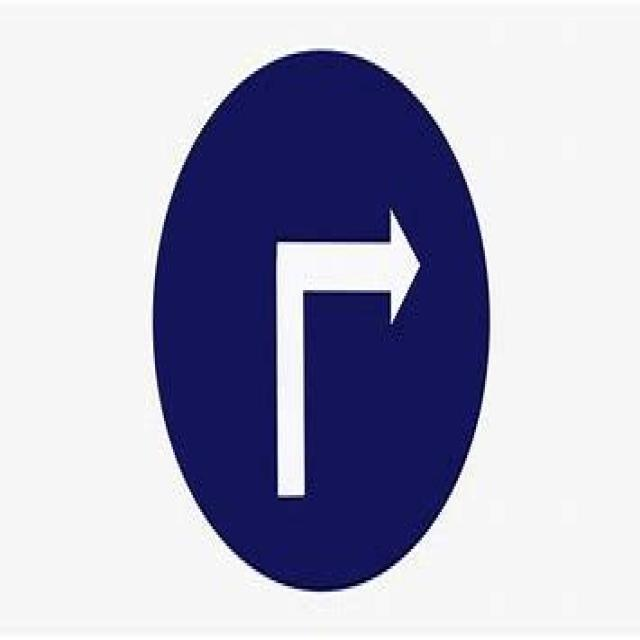COMPULSARY_TURN_RIGHT_AHEAD: (152, 42, 490, 596)
